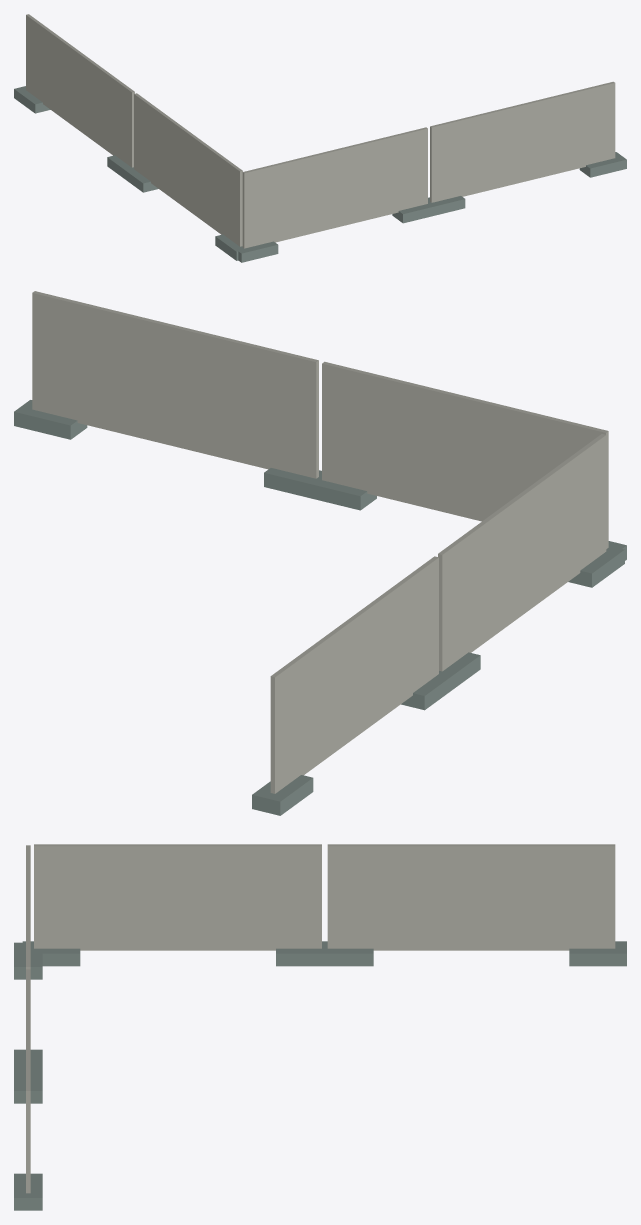
Rendered from SM_Vallas_v1_ObraL_LOD0.fbx.
The picture shows the model from 3 angles, top to bottom: view 1: azimuth 30°, elevation 25°; view 2: azimuth 150°, elevation 25°; view 3: azimuth 270°, elevation 25°; orthographic projection. The views are drawn at different scales.
Parts seen in each view (by area): view 1: SM_ambiente_aerodromo_v21_LOD0; view 2: SM_ambiente_aerodromo_v21_LOD0; view 3: SM_ambiente_aerodromo_v21_LOD0.
Boxes of the visible parts, x1,y1,x2,y2 form: SM_ambiente_aerodromo_v21_LOD0: [14, 14, 626, 262]; SM_ambiente_aerodromo_v21_LOD0: [14, 291, 626, 815]; SM_ambiente_aerodromo_v21_LOD0: [14, 844, 626, 1210].
Bounding box in the file's own units: 5.28 × 1.1 × 5.32.
